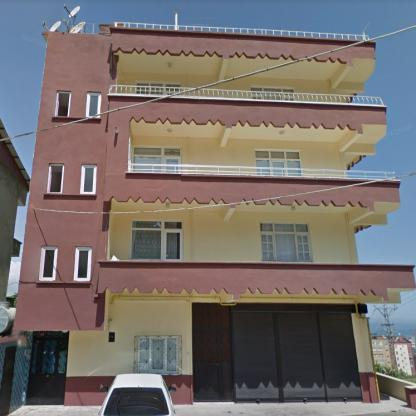door: (192, 303, 234, 401), (26, 331, 69, 405), (1, 345, 17, 415)
window: (130, 220, 182, 260), (260, 223, 312, 261), (138, 336, 177, 374), (133, 147, 181, 173), (255, 150, 303, 176), (74, 247, 92, 281), (39, 247, 57, 280), (47, 164, 63, 193), (80, 165, 96, 194), (55, 91, 70, 116), (86, 92, 101, 117), (250, 87, 294, 93), (137, 82, 181, 86)
